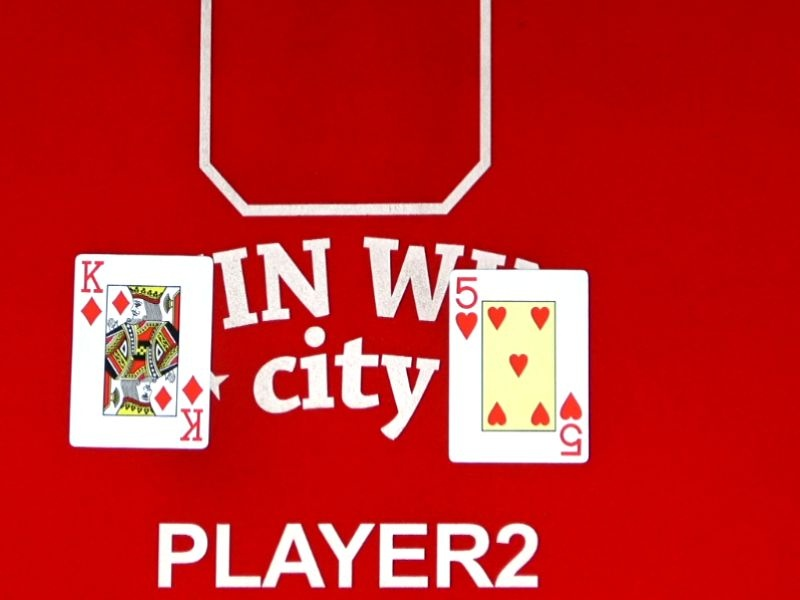5H: (427, 272, 508, 346), (534, 392, 607, 460)
KD: (53, 257, 133, 329), (153, 374, 231, 447)
